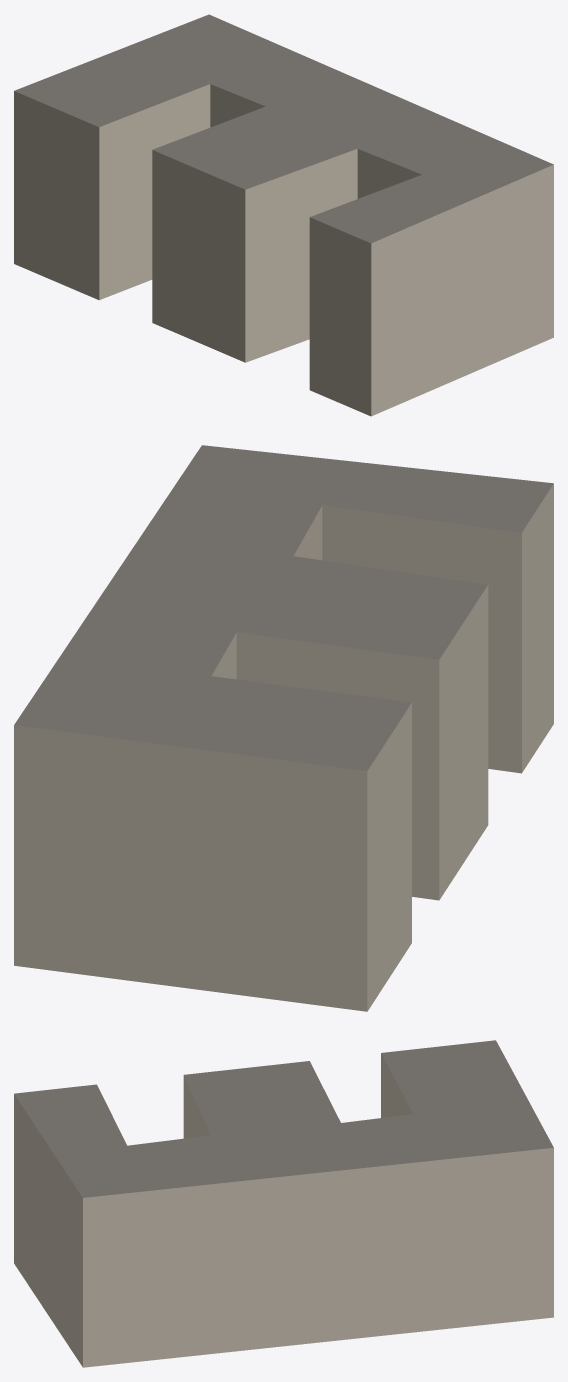
3 renders of one model, top to bottom at view 1: azimuth 30°, elevation 25°; view 2: azimuth 150°, elevation 25°; view 3: azimuth 270°, elevation 25°, orthographic. The views are drawn at different scales.
Parts seen in each view (by area): view 1: HP-w378107197; view 2: HP-w378107197; view 3: HP-w378107197.
Boxes of the visible parts, bbox=[...] form: HP-w378107197: bbox=[14, 14, 553, 416]; HP-w378107197: bbox=[14, 445, 553, 1011]; HP-w378107197: bbox=[14, 1040, 553, 1367].
Size of the model in its own units: 35.87 by 18 by 51.89.
